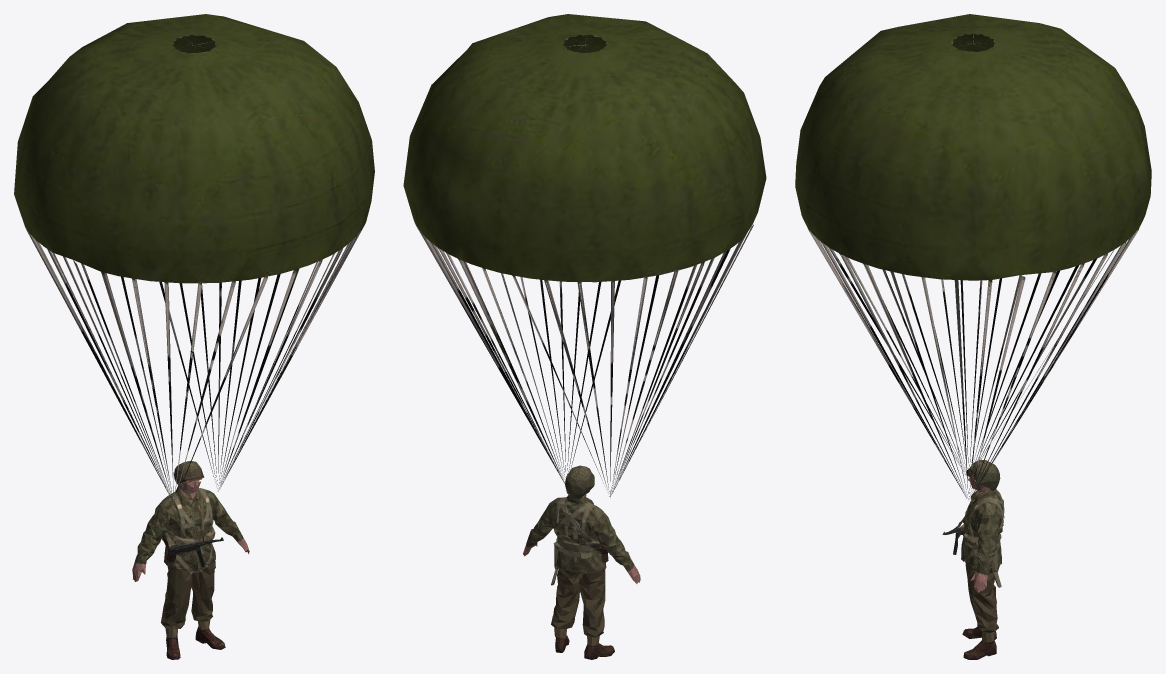
The model's file is realistic-by.76880fe3d732.paratrooper.glb.
3 views of the same model, side by side, from view 1: azimuth 30°, elevation 25°; view 2: azimuth 150°, elevation 25°; view 3: azimuth 270°, elevation 25° (orthographic).
Parts seen in each view (by area): view 1: paratrooper; view 2: paratrooper; view 3: paratrooper.
Boxes of the visible parts, <box> form: paratrooper: <box>14,14,374,659</box>; paratrooper: <box>403,14,766,659</box>; paratrooper: <box>795,14,1151,659</box>.
Bounding box in the file's own units: 3.2 × 5.86 × 3.13.
Materials: 2 (2 with a texture image).
